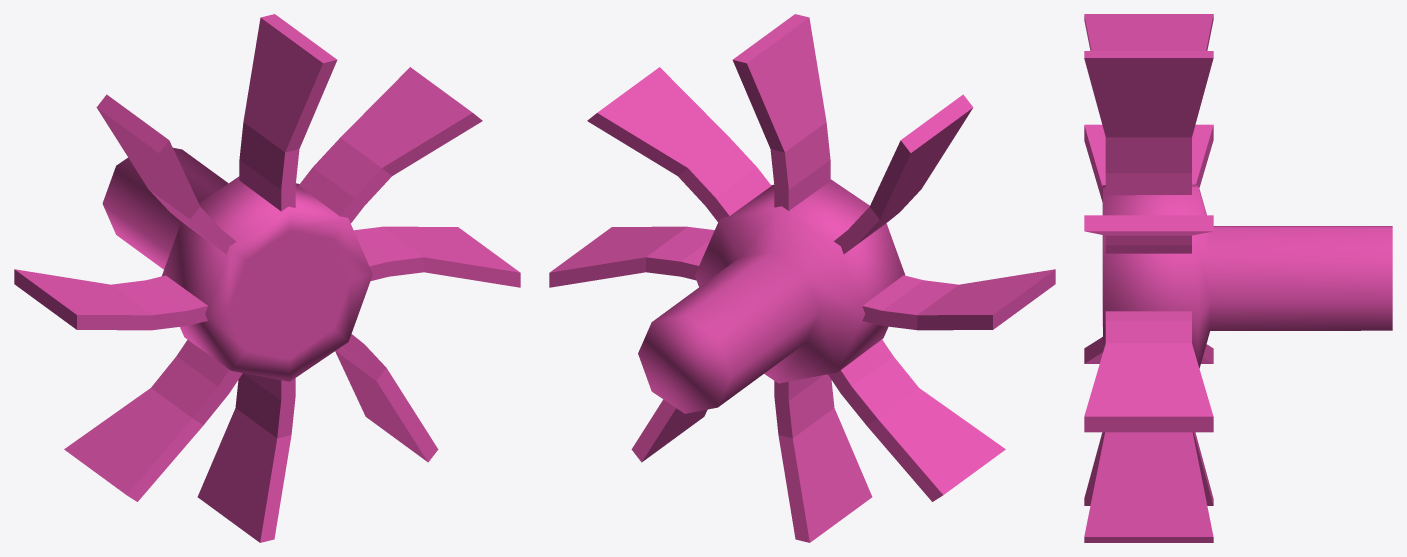
File: sm_boat_paddle_01_a.fbx
3 views of the same model, side by side, from view 1: azimuth 30°, elevation 25°; view 2: azimuth 150°, elevation 25°; view 3: azimuth 270°, elevation 25° (orthographic). The views are drawn at different scales.
Visible parts, largest first — view 1: sm_boat_paddle_01_a; view 2: sm_boat_paddle_01_a; view 3: sm_boat_paddle_01_a.
Part boxes in pixels (left/top/right/bottom): sm_boat_paddle_01_a: left=14, top=14, right=520, bottom=542; sm_boat_paddle_01_a: left=549, top=14, right=1055, bottom=542; sm_boat_paddle_01_a: left=1084, top=14, right=1392, bottom=542.
Bounding box in the file's own units: 250 × 250 × 146.
